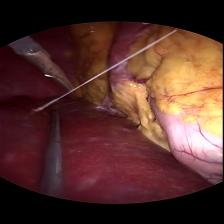Scissors: (19, 48, 82, 92)
